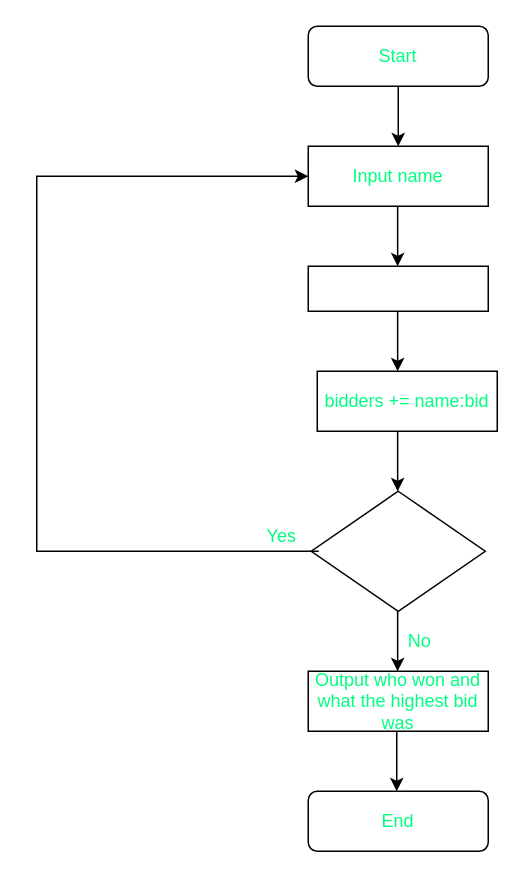
Image size: 524x878. Some labels were removed from this diagram. The centre of each missing label's shape, as x and y in pixels:
"Another bidder?" goes at pixel 397 550.
"Input bid" goes at pixel 397 288.
